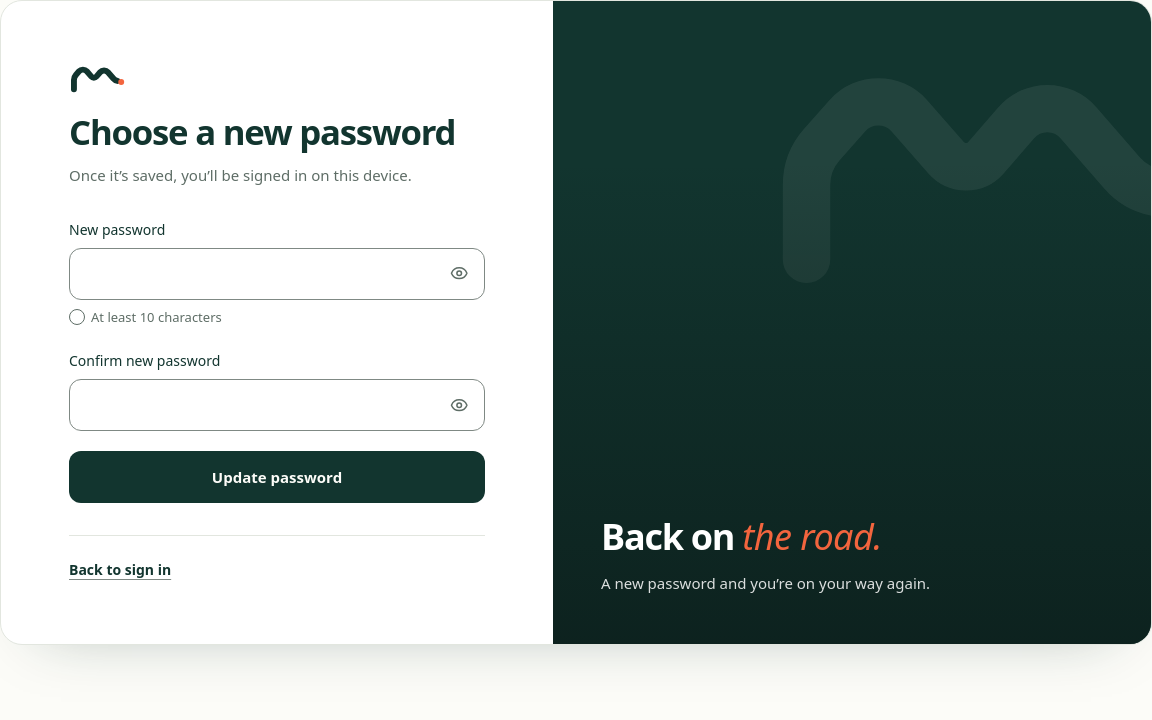
it: recovery form › submits a reset token without rendering the new password
Type "replacement-secret" into the password field labelled "New password".
click(277, 274); type("replacement-secret")  # box [69, 248, 485, 300]
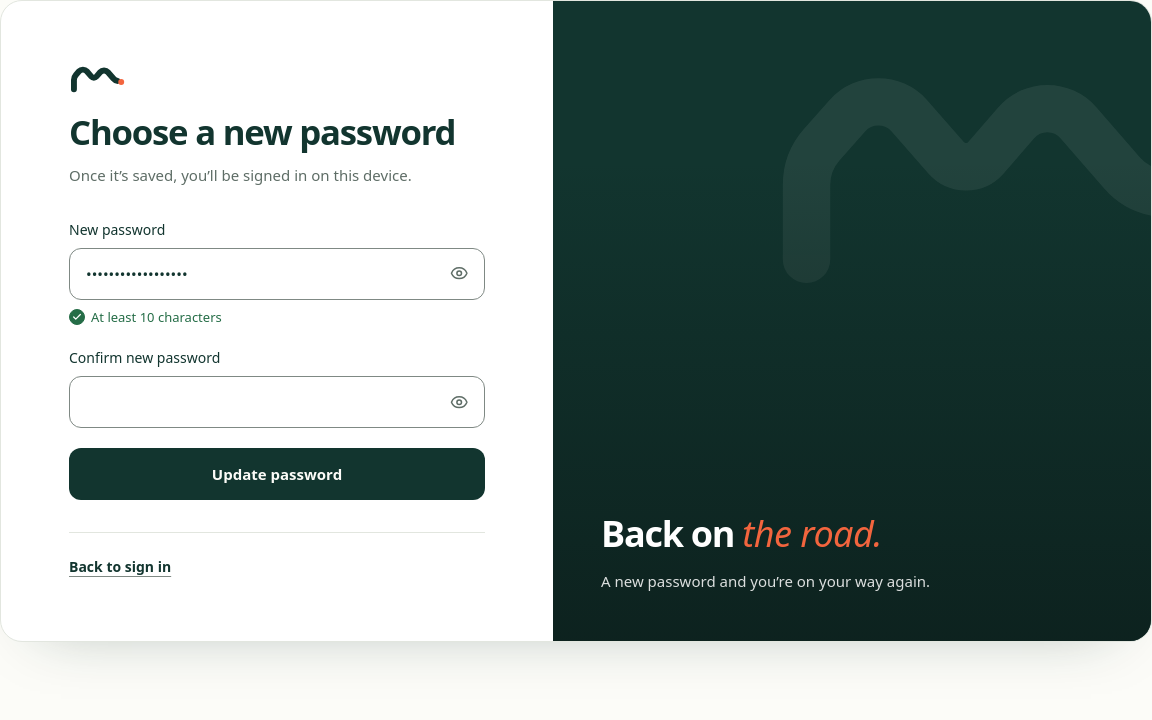
Type "replacement-secret" into the password field labelled "Confirm new password".
click(277, 402); type("replacement-secret")  # box [69, 376, 485, 428]
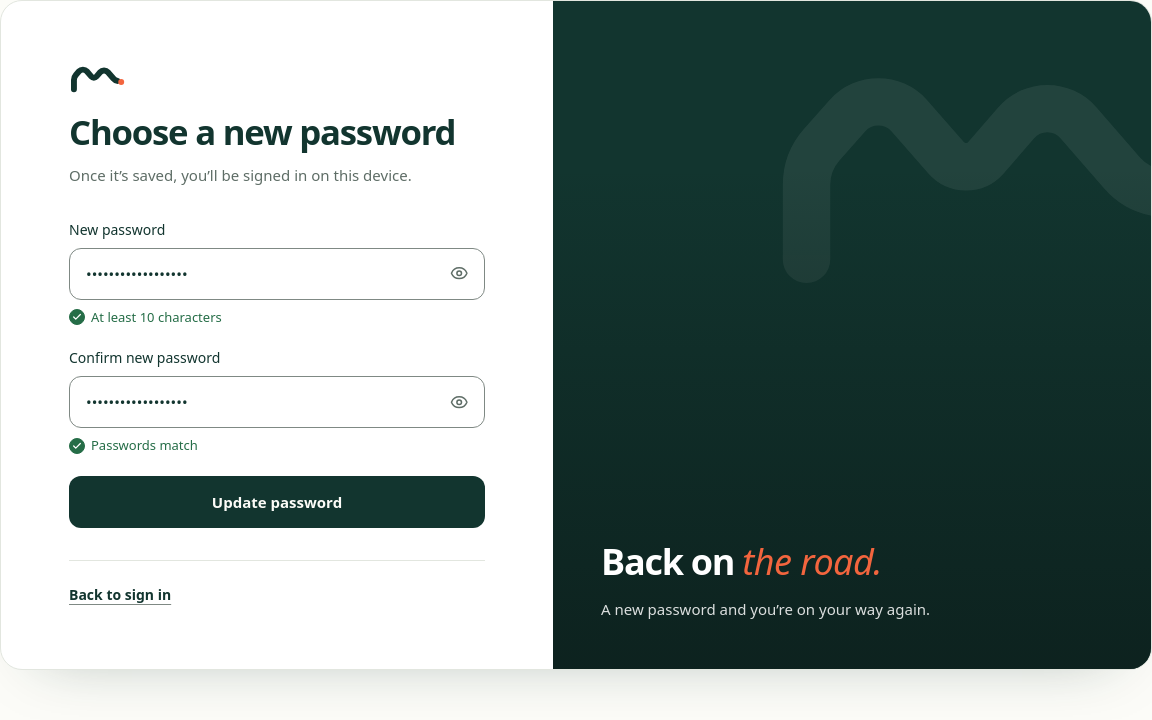
Check: the text "Passwords match" is shown, box [69, 436, 198, 455]
Click the button "Update password".
click(277, 502)  # box [69, 476, 485, 528]
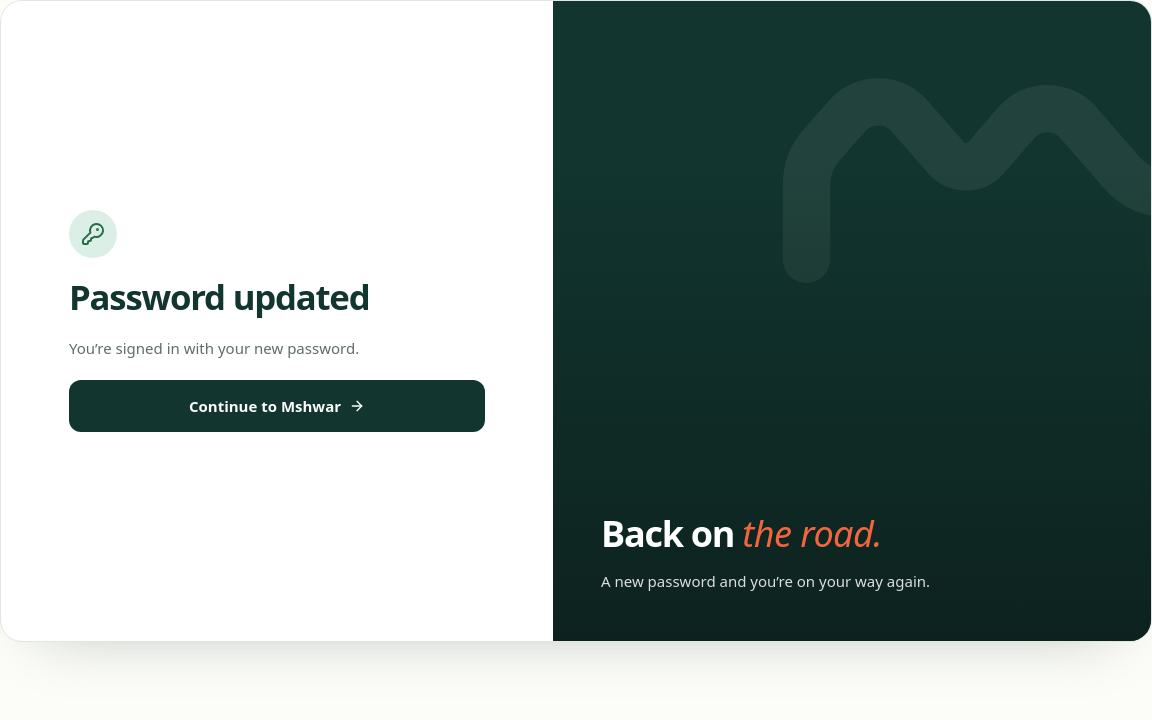
Check: the heading "Password updated" is shown, box [69, 273, 369, 320]
